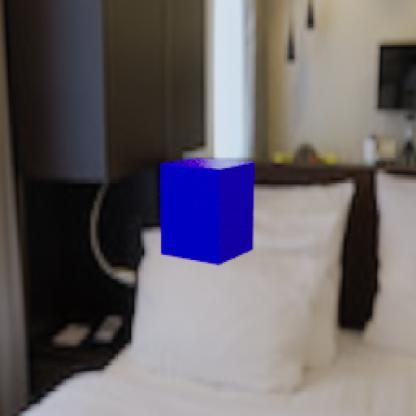blue_cube: (158, 156, 254, 265)
